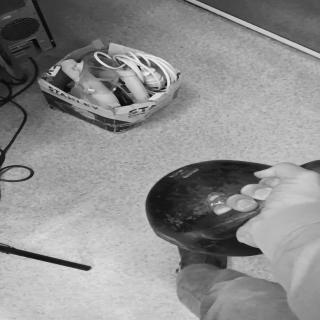kettlebell: (147, 159, 320, 258)
